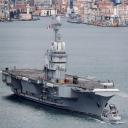Portanaves: (2, 3, 122, 119)
